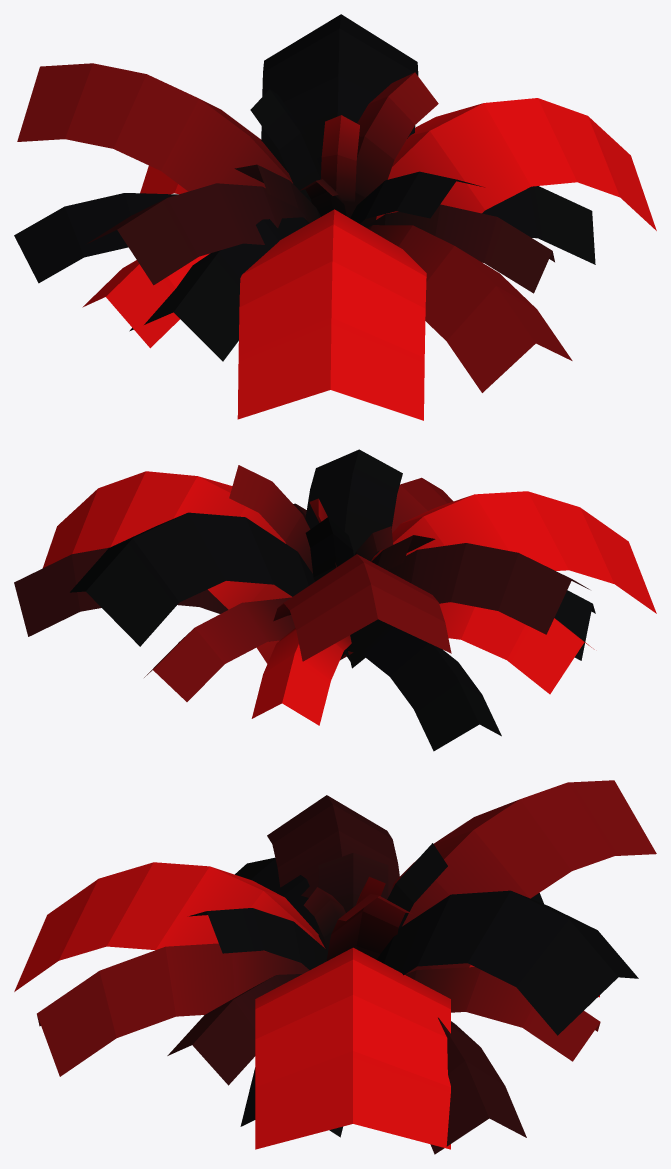
Rendered from Fern01_high.FBX.
The picture shows the model from 3 angles, top to bottom: view 1: azimuth 30°, elevation 25°; view 2: azimuth 150°, elevation 25°; view 3: azimuth 270°, elevation 25°; orthographic projection. The views are drawn at different scales.
Visible parts, largest first — view 1: Fern01_high; view 2: Fern01_high; view 3: Fern01_high.
Part boxes in pixels (x1,y1,x2,y2): Fern01_high: (14, 14, 656, 420); Fern01_high: (14, 449, 656, 751); Fern01_high: (14, 780, 656, 1154).
Bounding box in the file's own units: 1.39 × 0.442 × 1.4.
